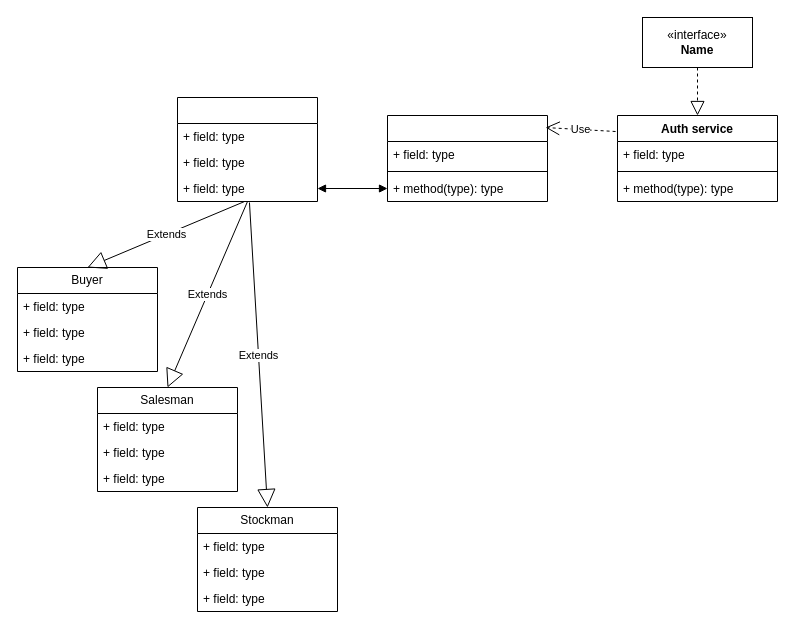
The diagram is 795 pixels wide and 632 high, and some of its shapes have lost their labels. Here are the shapes that lost their labels. From the top down, the box of each, then its label:
(176, 96, 318, 202): User
(386, 114, 548, 202): User Manager
